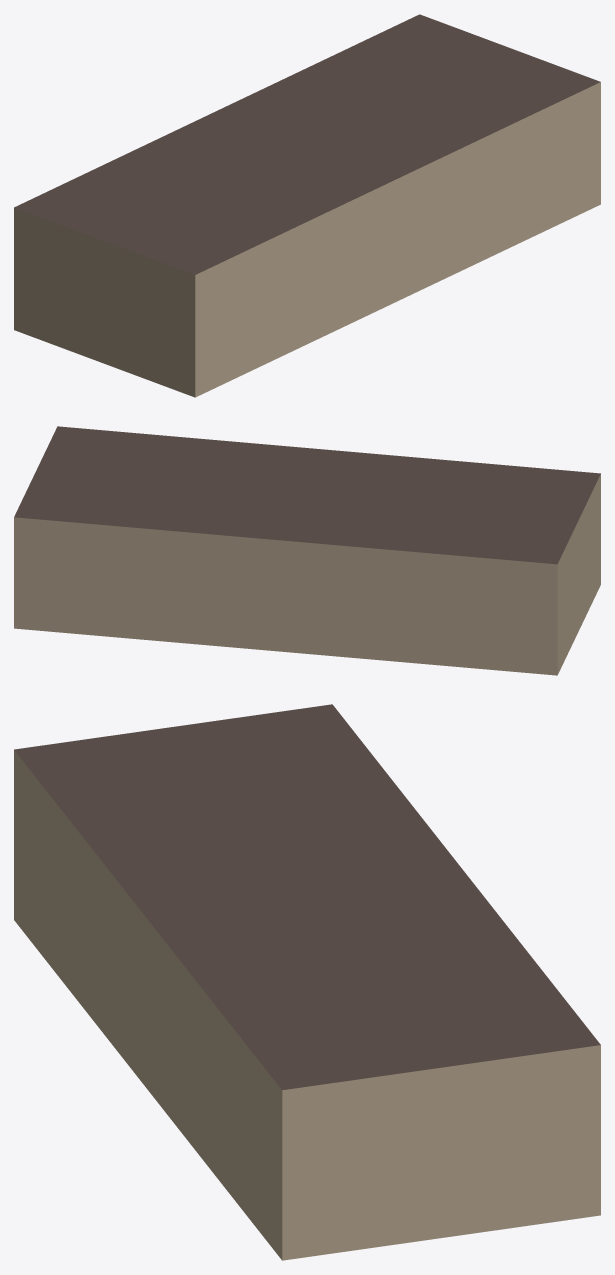
3 renders of one model, top to bottom at view 1: azimuth 30°, elevation 25°; view 2: azimuth 150°, elevation 25°; view 3: azimuth 270°, elevation 25°, orthographic. The views are drawn at different scales.
Visible parts, largest first — view 1: HP-w859488767; view 2: HP-w859488767; view 3: HP-w859488767.
Part boxes in pixels (left/top/right/bottom): HP-w859488767: left=14, top=14, right=600, bottom=397; HP-w859488767: left=14, top=426, right=600, bottom=675; HP-w859488767: left=14, top=704, right=600, bottom=1260.
Bounding box in the file's own units: 43.72 × 9 × 28.1.
